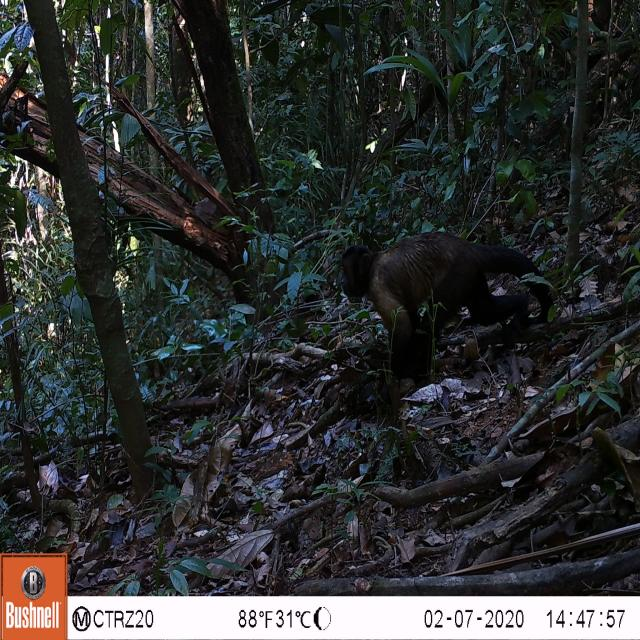Margarita Island Capuchin: (325, 216, 559, 390)
